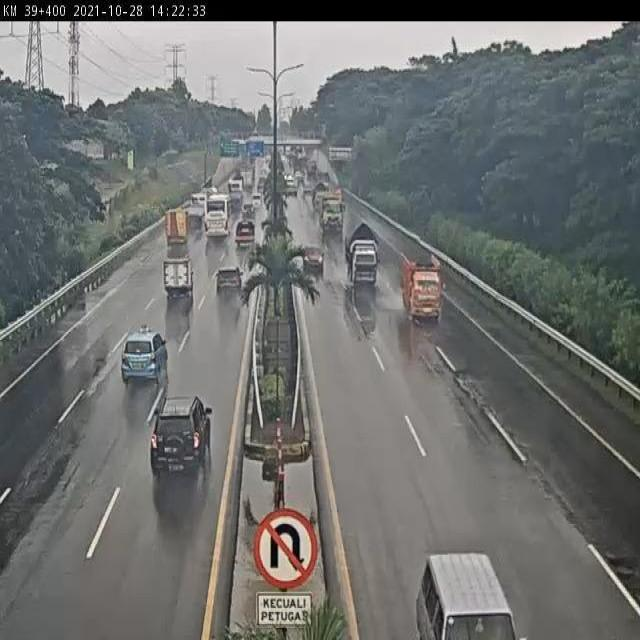bus-l-: (201, 194, 231, 242)
car: (162, 258, 195, 302)
truck-l-: (316, 188, 345, 235)
truck-s-: (400, 252, 445, 325), (345, 222, 379, 290), (162, 204, 190, 249), (233, 216, 259, 251)
